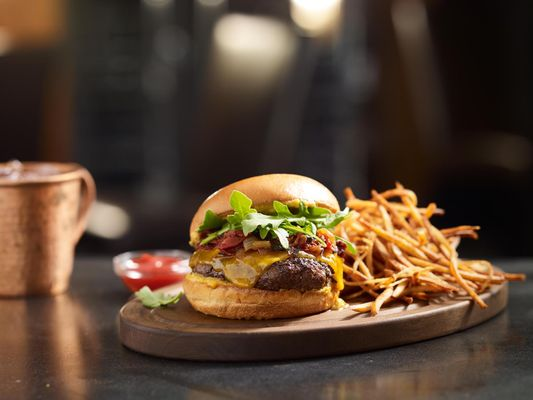pizza: (0, 160, 96, 297)
soup: (183, 175, 348, 321)
sushi: (112, 249, 190, 295)
